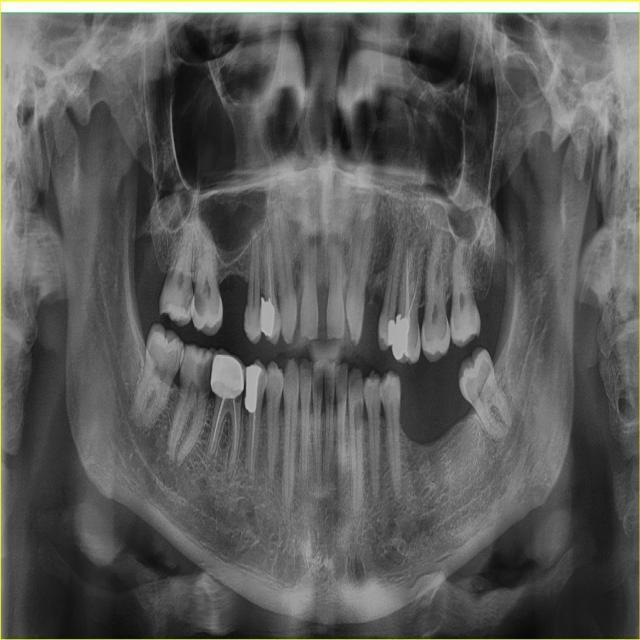74: (207, 397, 226, 457), (404, 249, 420, 320), (264, 243, 272, 298), (249, 412, 256, 472), (233, 398, 238, 451)
NucleOSS Implant: (390, 315, 411, 360), (244, 363, 262, 413), (257, 296, 277, 337), (386, 318, 396, 346)
Sterngold Implant: (194, 350, 212, 404), (188, 282, 208, 323), (181, 280, 195, 317), (352, 399, 364, 432), (440, 315, 451, 338), (233, 392, 247, 405), (422, 324, 431, 342)
Zimmer Implant: (206, 350, 249, 403)
